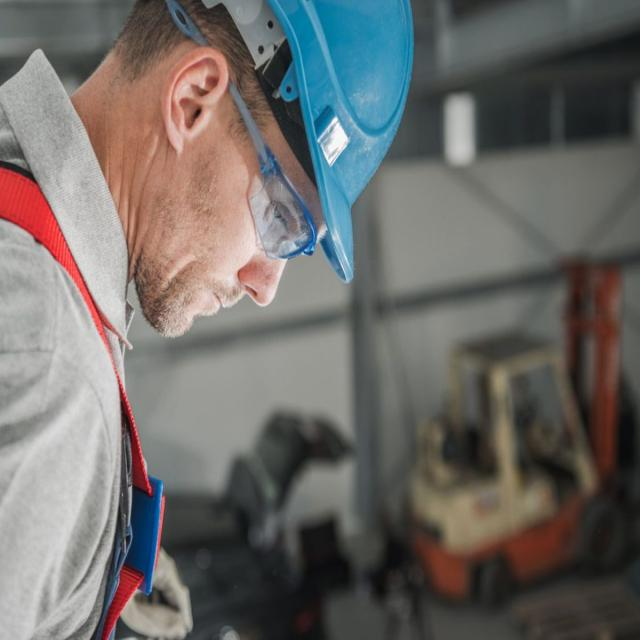glasses: (245, 102, 317, 277)
